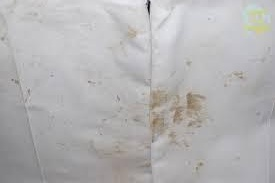earth: (149, 92, 206, 136)
